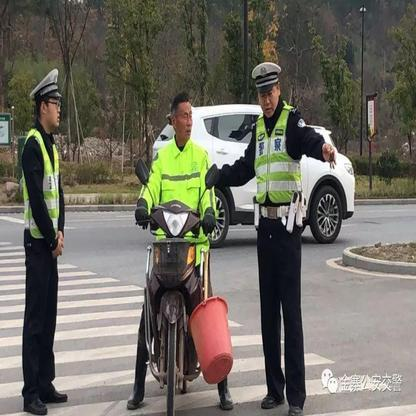target: (123, 91, 237, 411)
